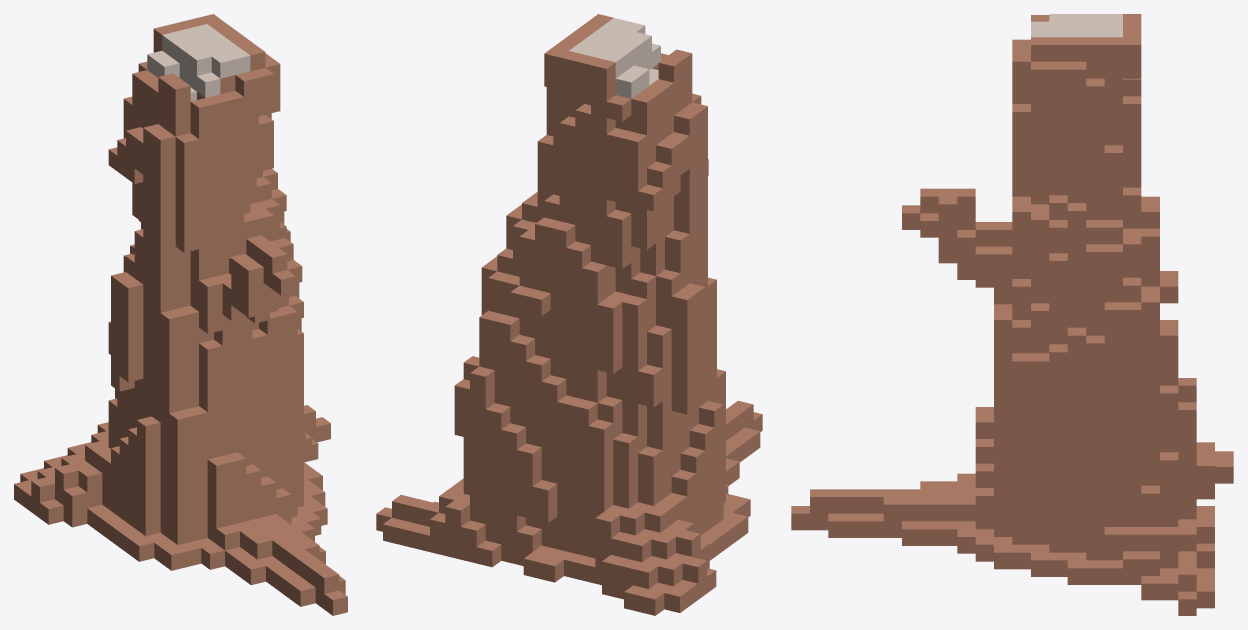
The model's file is Arbol_Seco.fbx.
The picture shows the model from 3 angles, left to right: view 1: azimuth 30°, elevation 25°; view 2: azimuth 150°, elevation 25°; view 3: azimuth 270°, elevation 25°; orthographic projection. The views are drawn at different scales.
Visible parts, largest first — view 1: arbol_seco_20x30x24; view 2: arbol_seco_20x30x24; view 3: arbol_seco_20x30x24.
Part boxes in pixels (box(x1,y1,x2,y2)): arbol_seco_20x30x24: box(14, 14, 347, 615); arbol_seco_20x30x24: box(376, 14, 762, 615); arbol_seco_20x30x24: box(791, 14, 1233, 615).
Bounding box in the file's own units: 690 × 1034 × 828.
